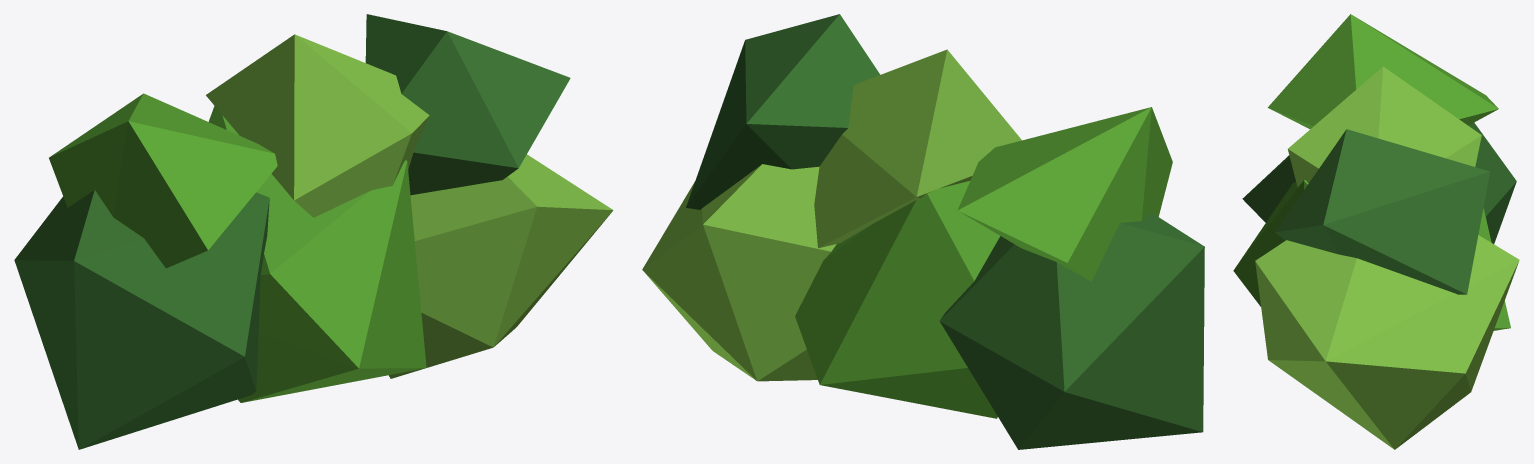
Rendered from hedge_end_1_lod2.glb.
3 renders of one model, left to right at view 1: azimuth 30°, elevation 25°; view 2: azimuth 150°, elevation 25°; view 3: azimuth 270°, elevation 25°, orthographic. The views are drawn at different scales.
Parts seen in each view (by area): view 1: hedge_end_1_lod2; view 2: hedge_end_1_lod2; view 3: hedge_end_1_lod2.
Part boxes in pixels (box(x1,y1,x2,y2)): hedge_end_1_lod2: box(14, 14, 613, 449); hedge_end_1_lod2: box(642, 14, 1204, 449); hedge_end_1_lod2: box(1233, 14, 1519, 449).
Bounding box in the file's own units: 2.33 × 1.53 × 1.34.
